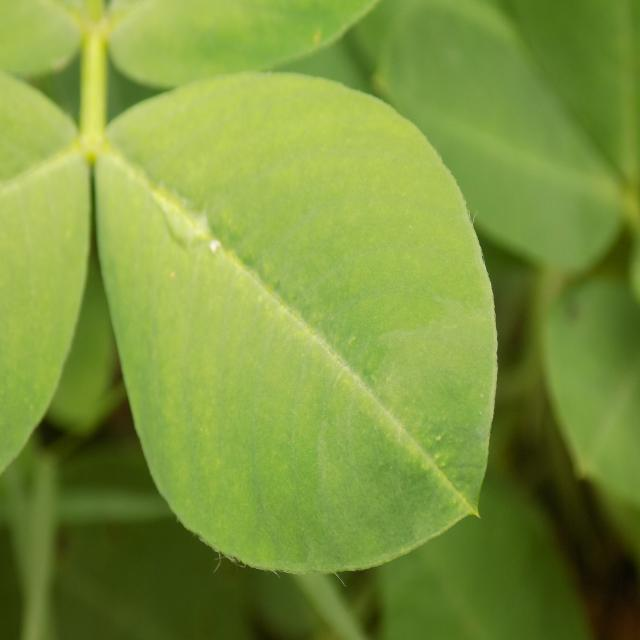Ground nut_healthy: (90, 69, 498, 574)
